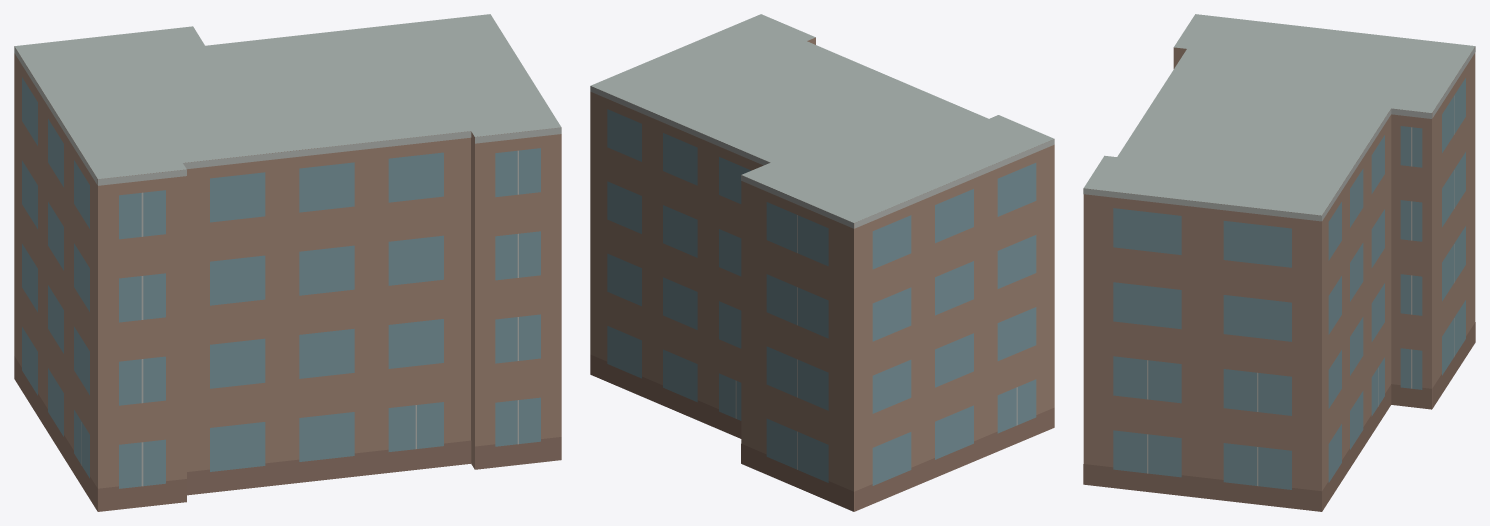
File: survey-upis-32832031.glb
3 views of the same model, side by side, from view 1: azimuth 30°, elevation 25°; view 2: azimuth 150°, elevation 25°; view 3: azimuth 270°, elevation 25° (orthographic). The views are drawn at different scales.
Parts seen in each view (by area): view 1: survey-upis-32832031.tmp; view 2: survey-upis-32832031.tmp; view 3: survey-upis-32832031.tmp.
Part boxes in pixels (left/top/right/bottom): survey-upis-32832031.tmp: left=14, top=14, right=561, bottom=511; survey-upis-32832031.tmp: left=590, top=14, right=1054, bottom=511; survey-upis-32832031.tmp: left=1083, top=14, right=1475, bottom=511.
Size of the model in its own units: 17.81 by 12.2 by 14.64.
